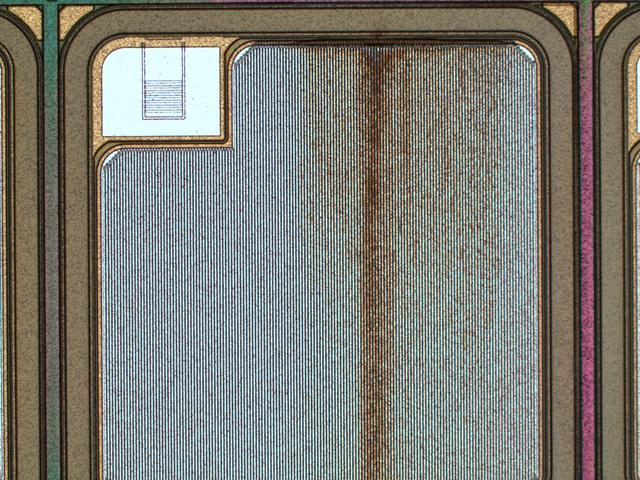SEZ BURNT: (267, 42, 542, 480)
